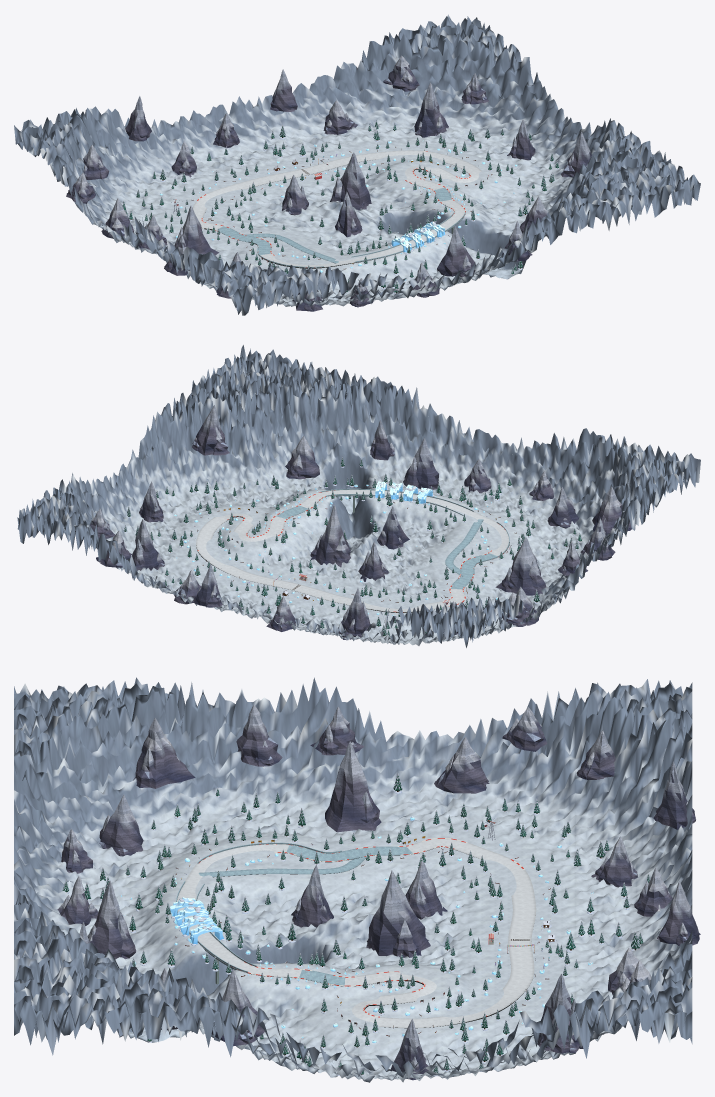
The model's file is pico-boreal.glb.
The picture shows the model from 3 angles, top to bottom: view 1: azimuth 30°, elevation 25°; view 2: azimuth 150°, elevation 25°; view 3: azimuth 270°, elevation 25°; orthographic projection. The views are drawn at different scales.
Parts seen in each view (by area): view 1: terrain4, terrain5, terrain11, terrain1, terrain2, terrain0, terrain3, terrain29, terrain17, sec7_props, terrain24, terrain15 (+40 smaller); view 2: terrain28, terrain23, terrain27, terrain25, terrain22, terrain24, terrain17, terrain26, sec7_props, terrain0, terrain29, terrain9 (+39 smaller); view 3: terrain18, terrain0, terrain24, terrain12, terrain6, terrain25, terrain29, terrain1, terrain16, terrain5, sec7_props, terrain2 (+48 smaller).
Boxes of the visible parts, x1,y1,x2,y2 form: terrain4: [327, 28, 450, 142]; terrain5: [406, 14, 512, 120]; terrain11: [451, 44, 558, 158]; terrain1: [92, 106, 214, 201]; terrain2: [172, 96, 291, 180]; terrain0: [14, 108, 136, 203]; terrain3: [249, 75, 372, 161]; terrain29: [586, 146, 695, 217]; terrain17: [496, 108, 606, 190]; sec7_props: [335, 191, 475, 297]; terrain24: [195, 251, 312, 314]; terrain15: [360, 169, 462, 234]; terrain28: [263, 365, 381, 500]; terrain23: [149, 380, 259, 493]; terrain27: [341, 385, 461, 509]; terrain25: [496, 437, 618, 536]; terrain22: [215, 409, 330, 506]; terrain24: [575, 442, 696, 537]; terrain17: [105, 425, 212, 526]; terrain26: [432, 436, 539, 513]; sec7_props: [377, 438, 501, 549]; terrain0: [396, 596, 516, 647]; terrain29: [200, 345, 305, 413]; terrain9: [203, 540, 324, 596]; terrain18: [158, 682, 291, 832]; terrain0: [558, 679, 692, 830]; terrain24: [25, 677, 158, 830]; terrain12: [292, 677, 425, 832]; terrain6: [425, 691, 558, 832]; terrain25: [25, 740, 158, 887]; terrain29: [25, 960, 158, 1055]; terrain1: [558, 743, 692, 887]; terrain16: [292, 984, 425, 1057]; terrain5: [558, 965, 692, 1058]; sec7_props: [57, 865, 333, 959]; terrain2: [558, 847, 692, 946].
Size of the model in its own units: 700 by 145 by 618.
Materials: 26 (15 with a texture image).
